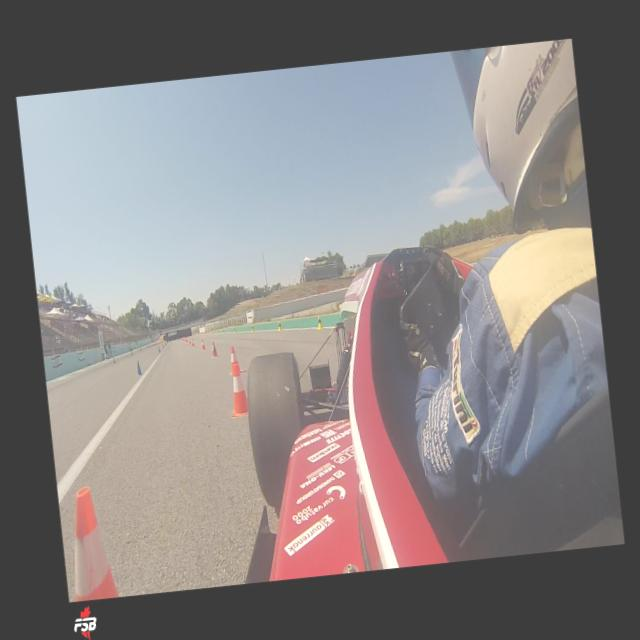orange_cone: (63, 484, 119, 601), (224, 362, 248, 417), (226, 346, 242, 374), (210, 340, 218, 358), (200, 338, 206, 349), (191, 338, 194, 346), (188, 338, 190, 344)
unknown_cone: (136, 360, 142, 374), (113, 356, 115, 363), (158, 346, 160, 352)
yellow_cone: (316, 314, 322, 329), (276, 320, 282, 331), (250, 323, 254, 332), (232, 327, 235, 333), (222, 328, 225, 333)
